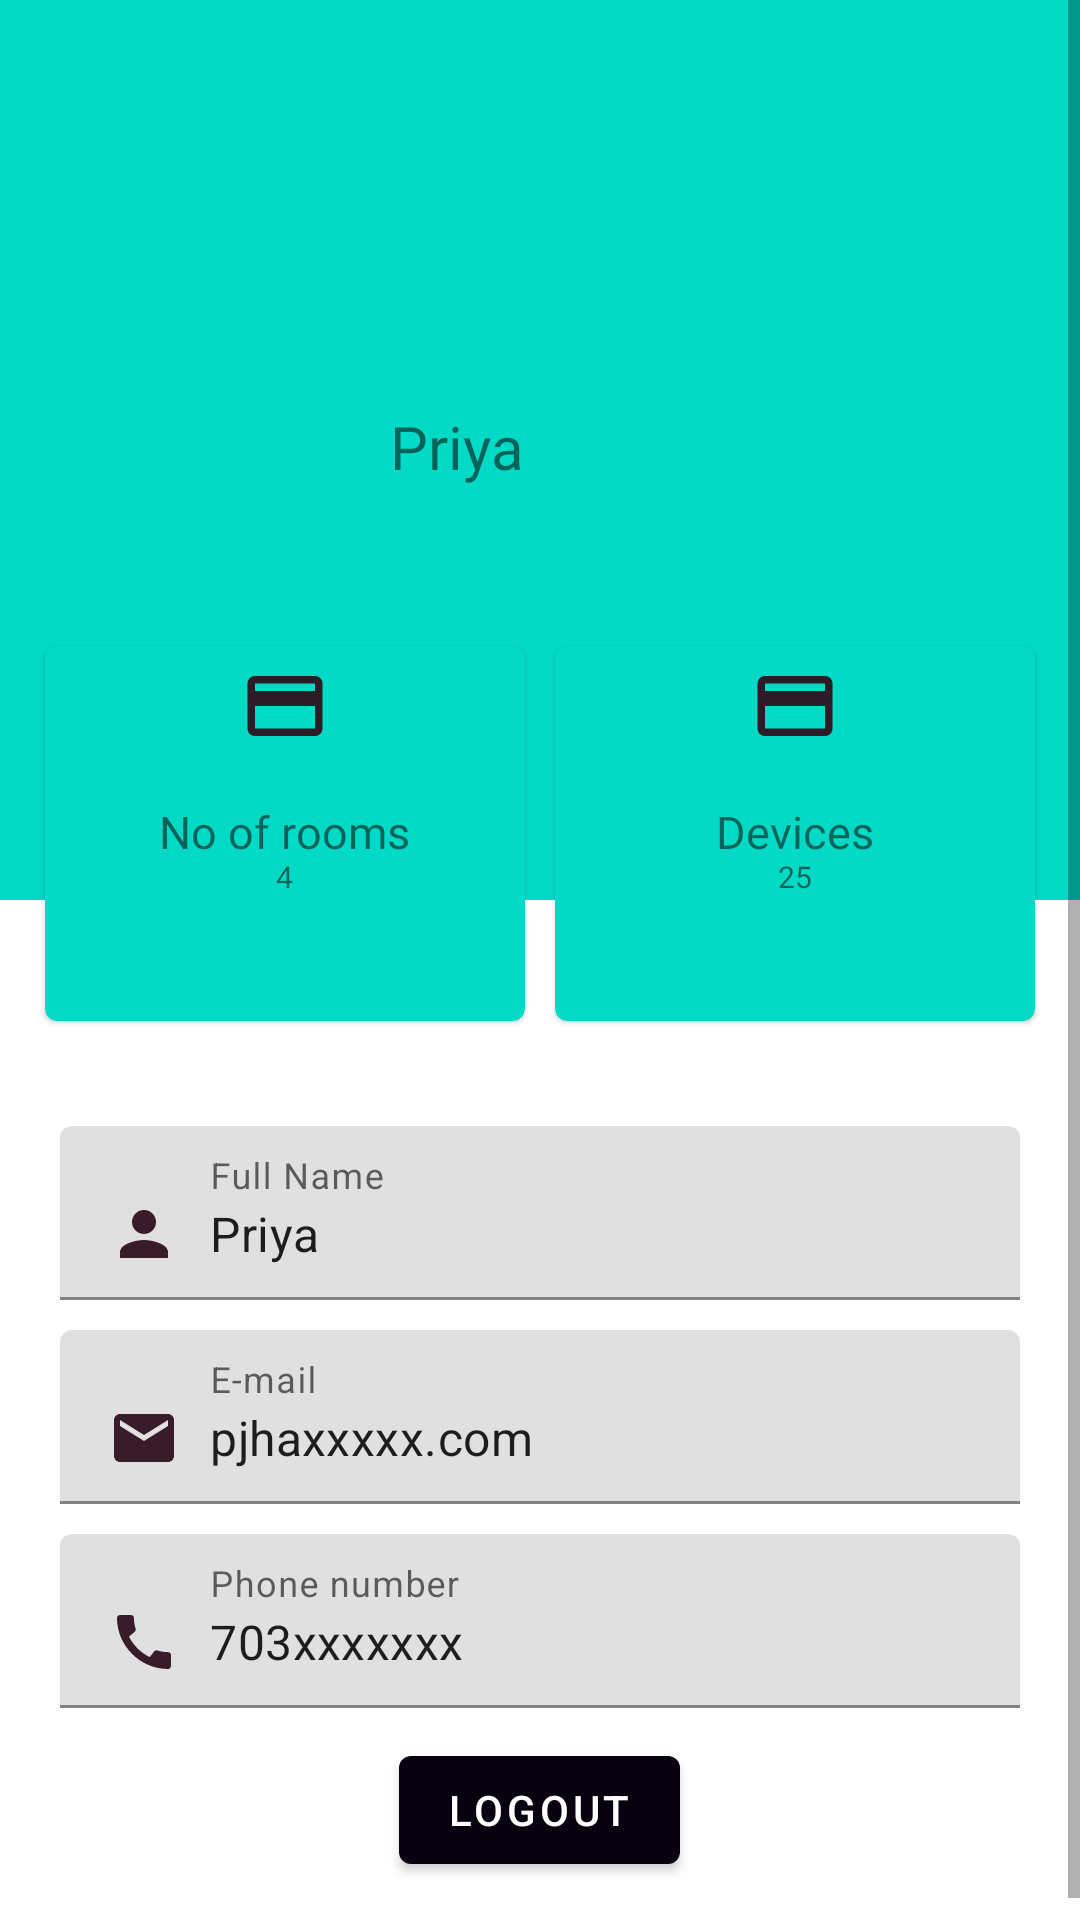

Point at icon controls on the screen. Image size 1080px×1920px, points as (x,y).
payment: (285,706), (795,706)
